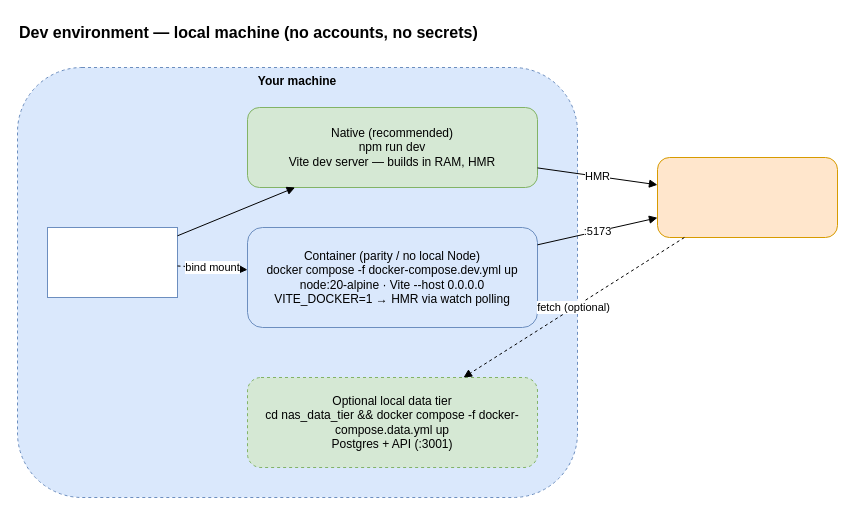
The diagram is 855 pixels wide and 515 high, and some of its shapes have lost their labels. The box of each missing label's shape, as (x1, y1, x2, y2) in pixels:
Browser http://localhost:5173: (656, 156, 838, 238)
src/*.jsx (source you edit): (46, 226, 178, 298)
